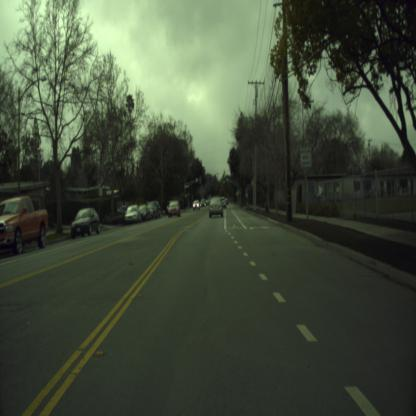Green: (187, 189, 189, 196), (223, 177, 224, 183), (238, 188, 239, 193)
